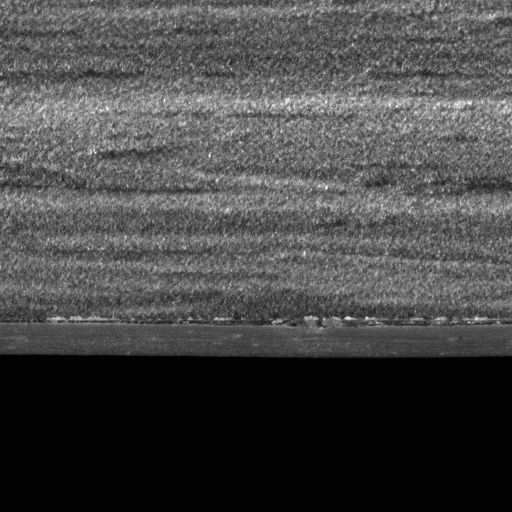jiaofeng: (277, 313, 440, 331)
